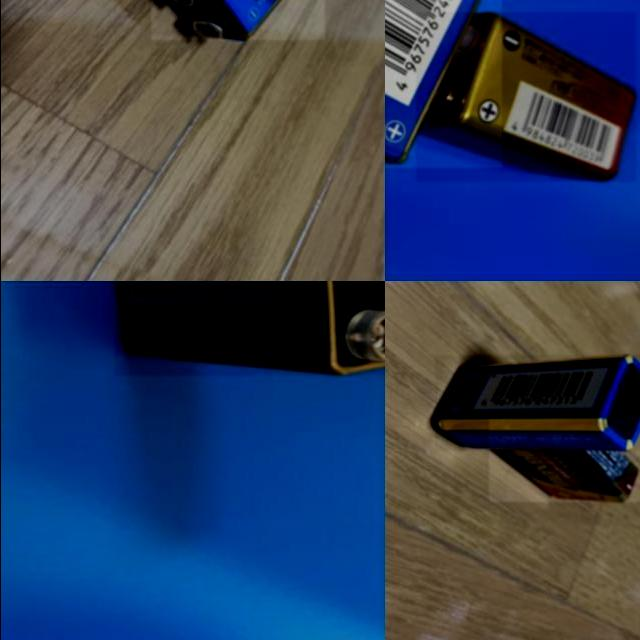9V: (414, 13, 635, 183), (114, 281, 384, 375), (384, 0, 502, 168), (434, 355, 640, 451), (488, 418, 640, 502), (150, 0, 325, 40)
